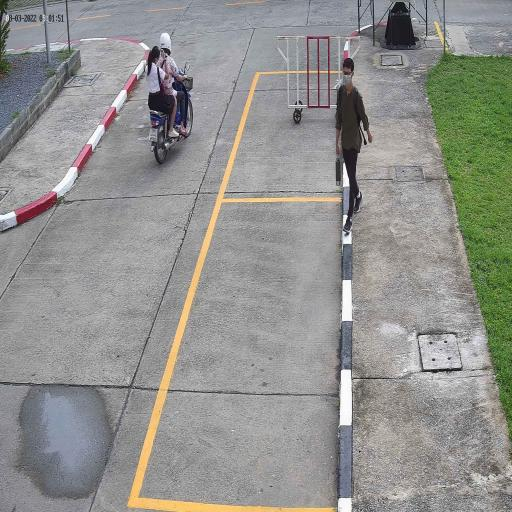motorcycle: (149, 92, 194, 166)
